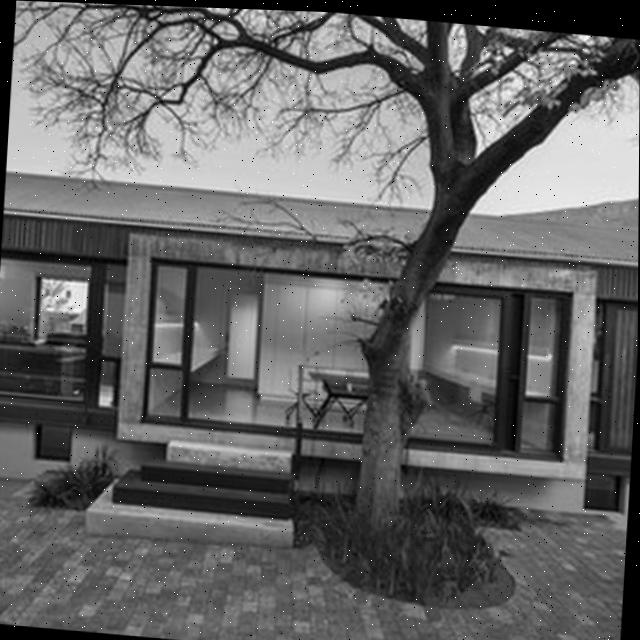building: (0, 169, 639, 518)
